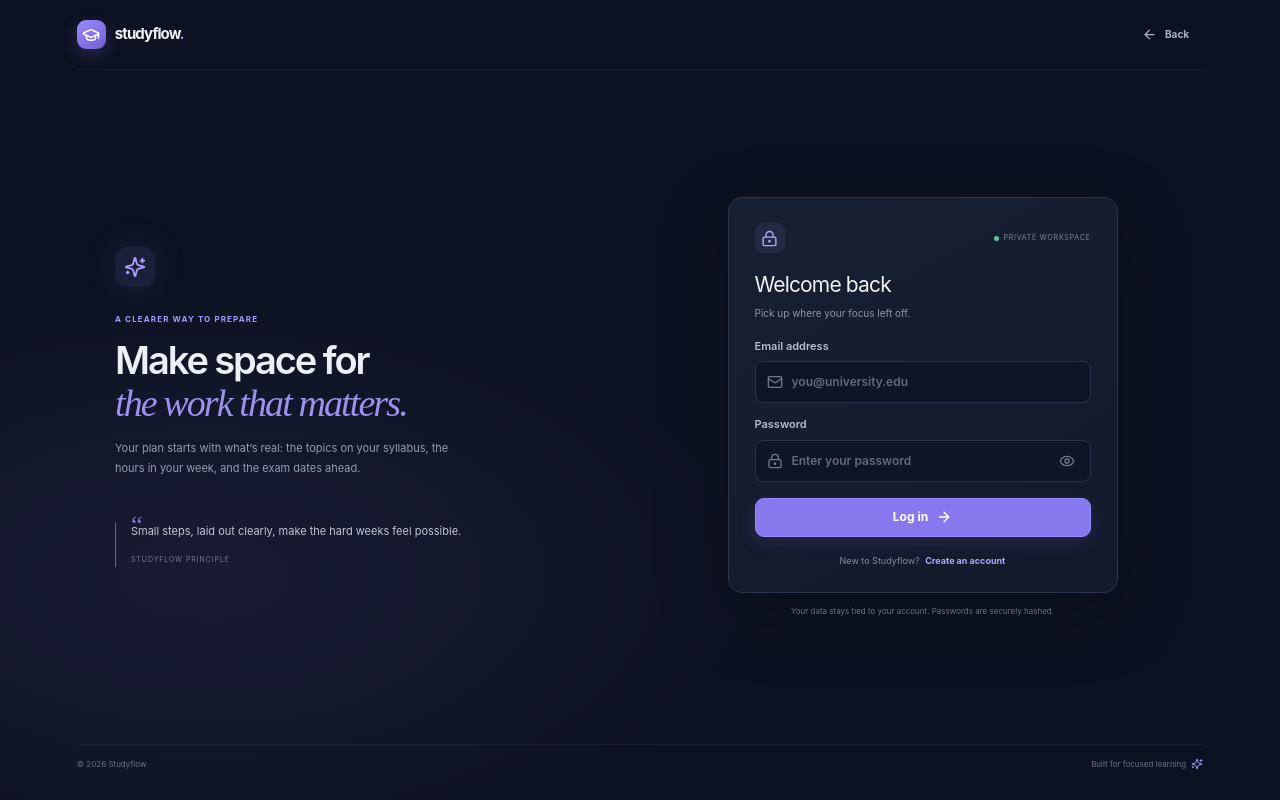
Test: authentication form › validates email and password before submitting
Click the button "Log in": click(922, 517) [754, 498, 1090, 536]
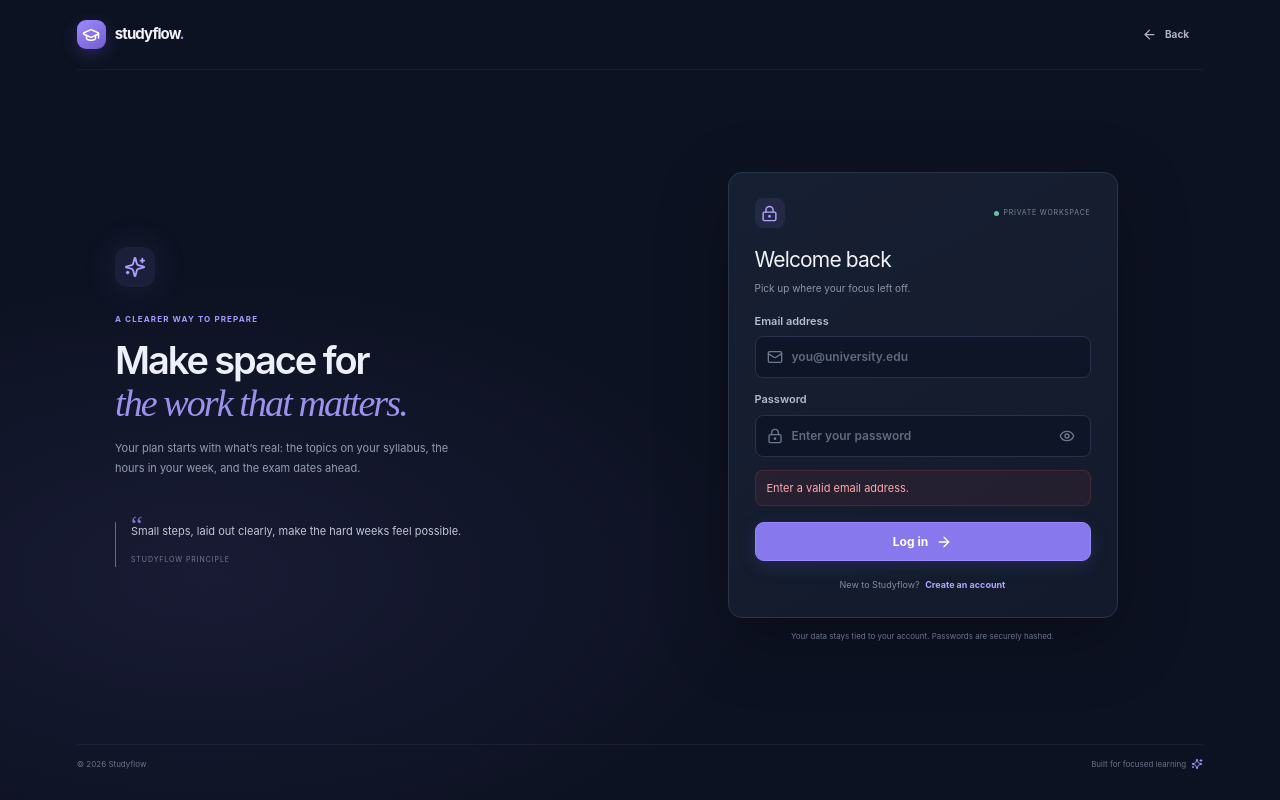
Result: the message shows "valid email address" at [766, 481, 909, 495]
